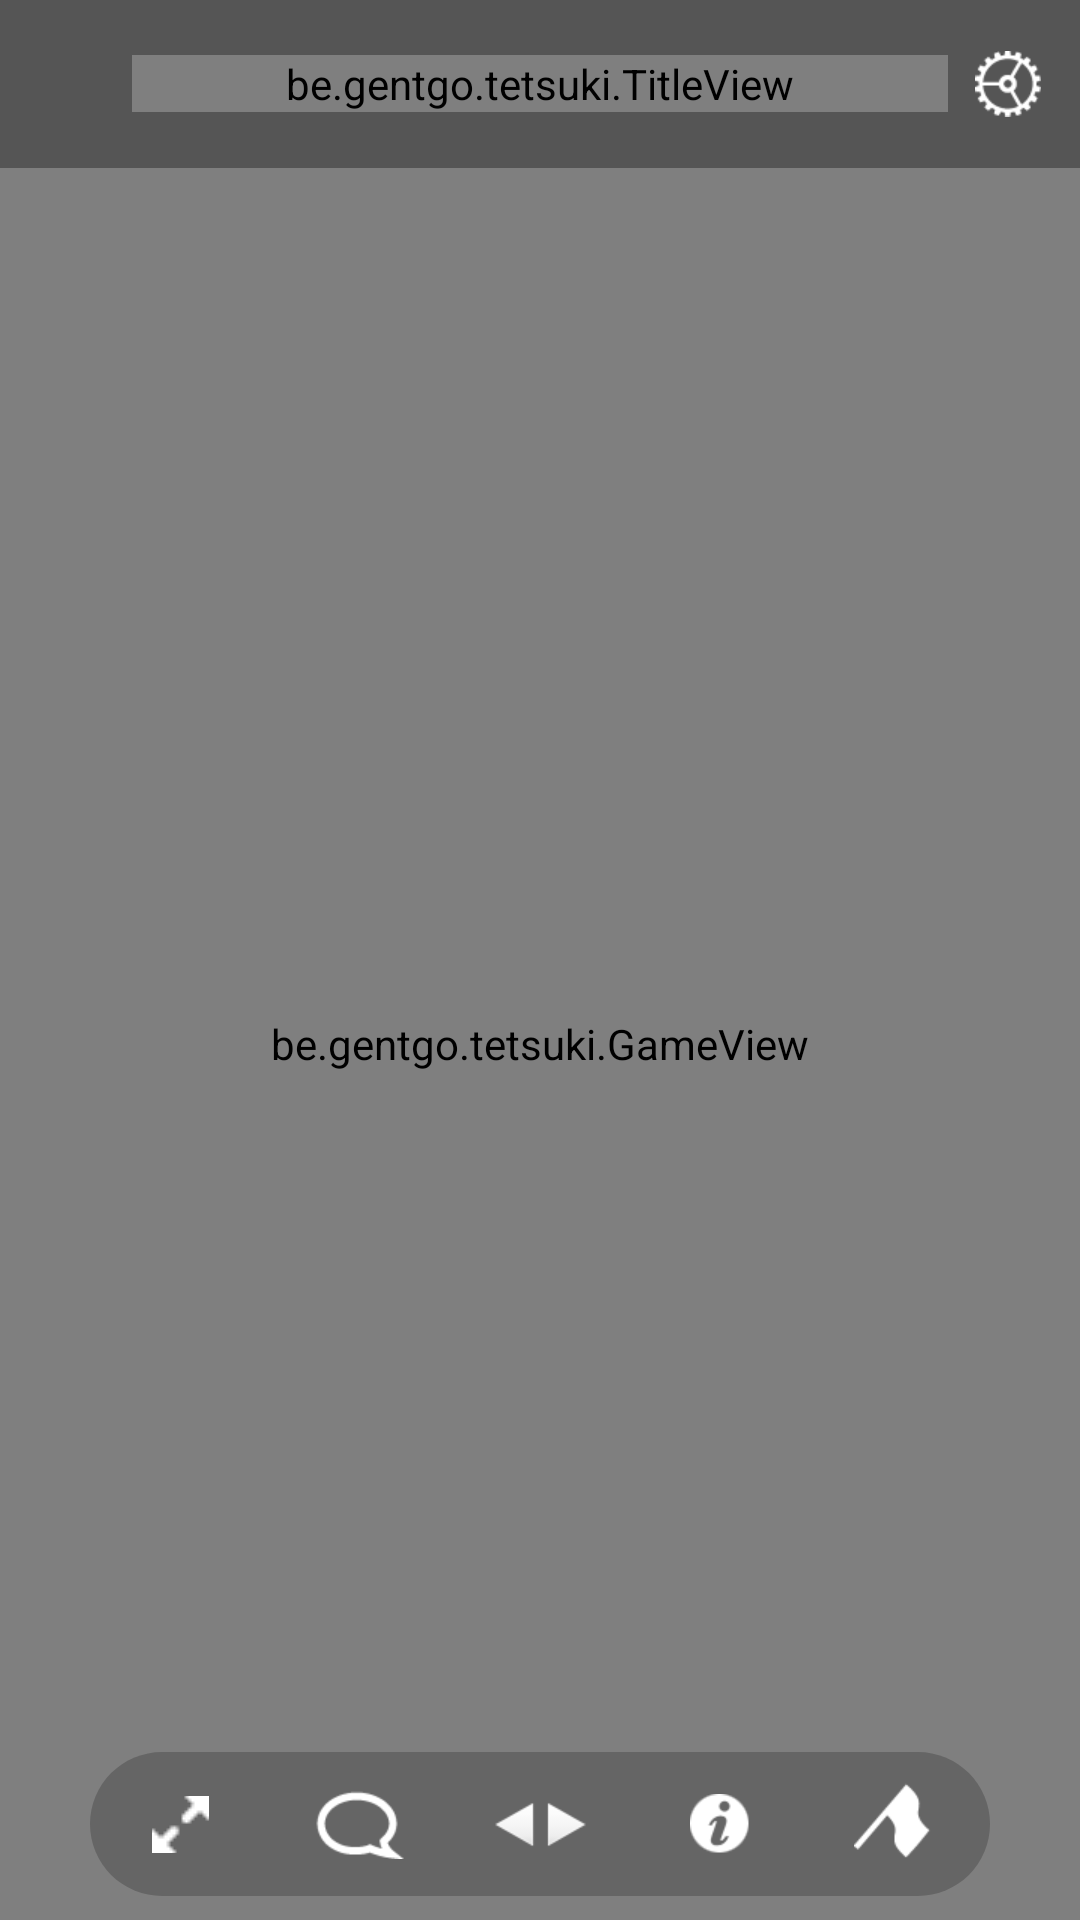

Icons on this 1080px×1920px Android screen, each with the point to tap as (x,y):
backward forward: (540,1824)
chat: (360,1825)
flag: (900,1824)
gear: (1008,84)
